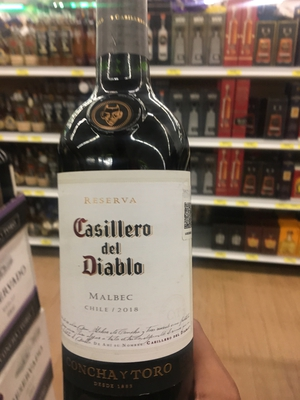casillero del diablo malbec: (41, 12, 215, 400)
